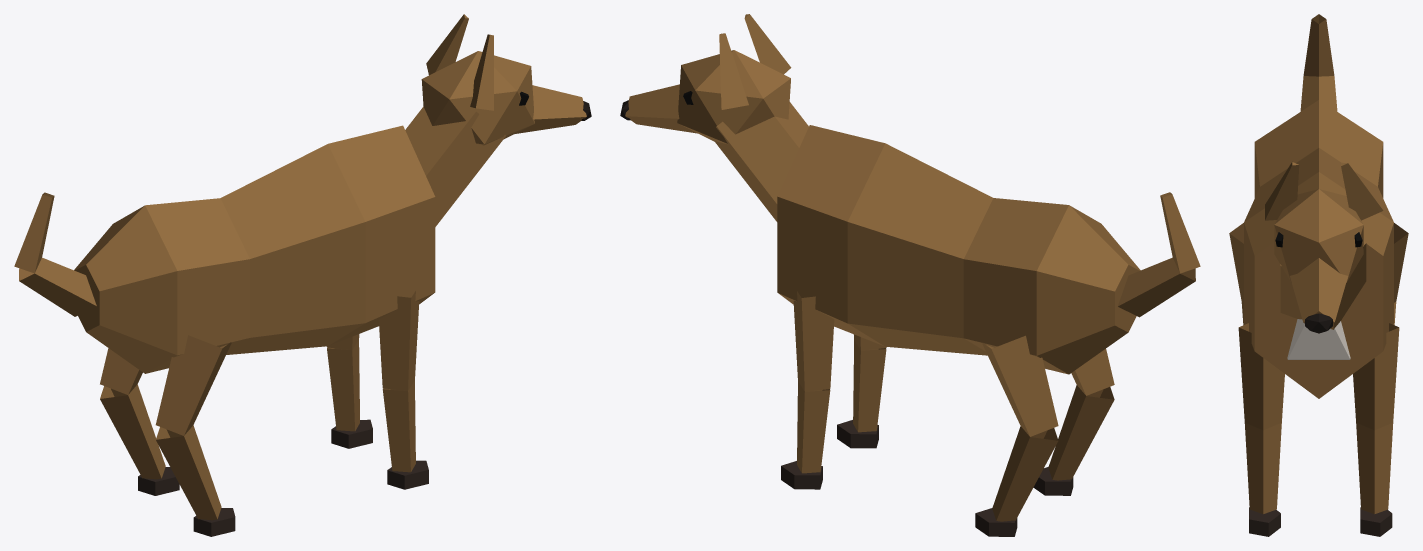
The model's file is perro.obj.
The picture shows the model from 3 angles, left to right: view 1: azimuth 30°, elevation 25°; view 2: azimuth 150°, elevation 25°; view 3: azimuth 270°, elevation 25°; orthographic projection.
Visible parts, largest first — view 1: Tronco, Pata_TD, Pata_DD, Pata_TI, Pata_DI; view 2: Tronco, Pata_TI, Pata_DI, Pata_TD, Pata_DD; view 3: Tronco, Pata_DI, Pata_DD, Pata_TI, Pata_TD.
Boxes of the visible parts, box(x1,y1,x2,y2) form: Tronco: box(14, 14, 591, 373); Pata_TD: box(155, 335, 235, 536); Pata_DD: box(378, 291, 428, 489); Pata_TI: box(100, 348, 179, 495); Pata_DI: box(326, 334, 372, 448); Tronco: box(620, 14, 1200, 374); Pata_TI: box(975, 335, 1058, 536); Pata_DI: box(781, 291, 834, 489); Pata_TD: box(1033, 349, 1114, 495); Pata_DD: box(837, 334, 886, 448); Tronco: box(1244, 14, 1393, 398); Pata_DI: box(1353, 323, 1399, 536); Pata_DD: box(1238, 323, 1284, 536); Pata_TI: box(1393, 223, 1408, 324); Pata_TD: box(1229, 223, 1244, 324).
Size of the model in its own units: 1.07 by 0.7344 by 0.29.
